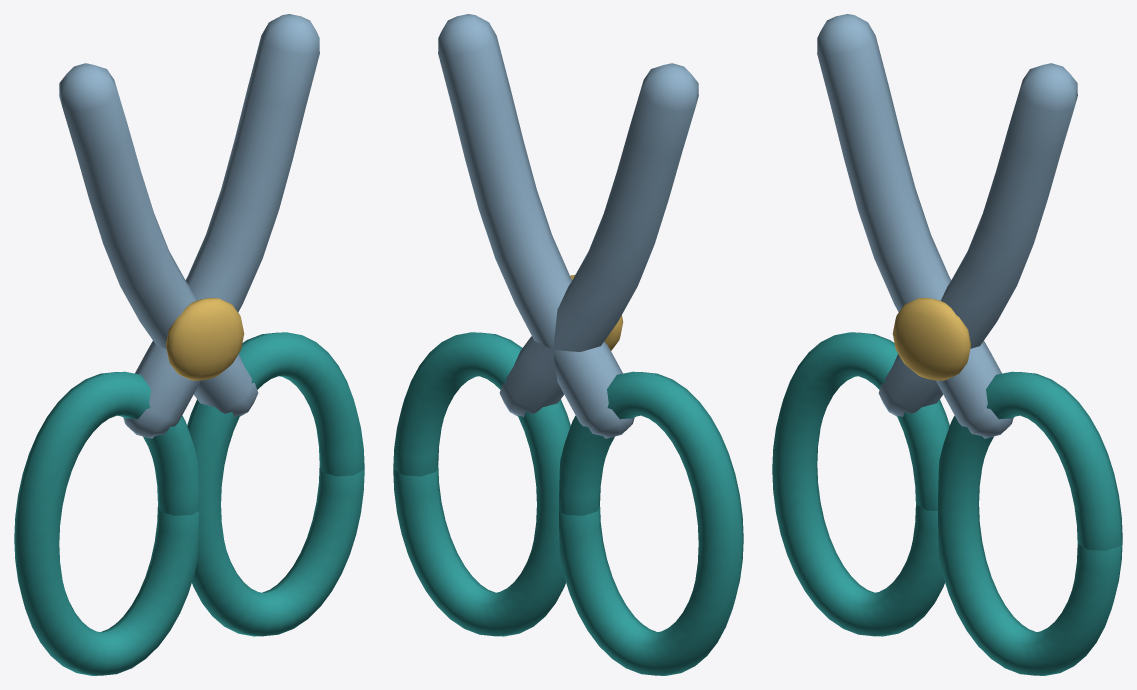
The model's file is shears.glb.
The picture shows the model from 3 angles, left to right: view 1: azimuth 30°, elevation 25°; view 2: azimuth 150°, elevation 25°; view 3: azimuth 330°, elevation 25°; orthographic projection.
Parts seen in each view (by area): view 1: Finger_loop, Finger_loop.001, Steel_blade, Steel_blade.001, Pivot; view 2: Finger_loop, Finger_loop.001, Steel_blade, Steel_blade.001; view 3: Finger_loop.001, Finger_loop, Steel_blade.001, Steel_blade, Pivot.
Boxes of the visible parts, x1,y1,x2,y2 form: Finger_loop: (14, 371, 198, 675); Finger_loop.001: (187, 332, 364, 636); Steel_blade: (123, 14, 319, 438); Steel_blade.001: (59, 63, 258, 416); Pivot: (166, 297, 244, 380); Finger_loop: (559, 371, 743, 675); Finger_loop.001: (393, 332, 570, 636); Steel_blade: (438, 14, 634, 438); Steel_blade.001: (499, 63, 698, 416); Finger_loop.001: (938, 371, 1122, 675); Finger_loop: (772, 332, 949, 636); Steel_blade.001: (817, 14, 1013, 438); Steel_blade: (878, 63, 1077, 416); Pivot: (892, 297, 970, 380).
Bounding box in the file's own units: 0.154 × 0.2607 × 0.032.
